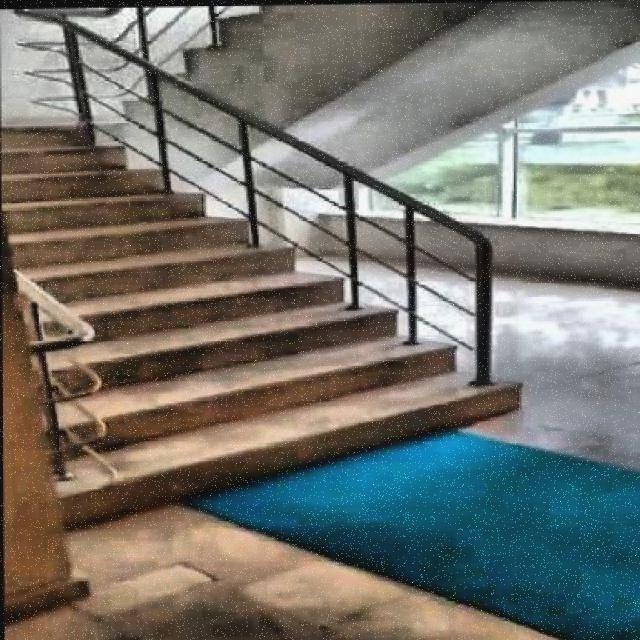stair: (1, 63, 542, 546)
